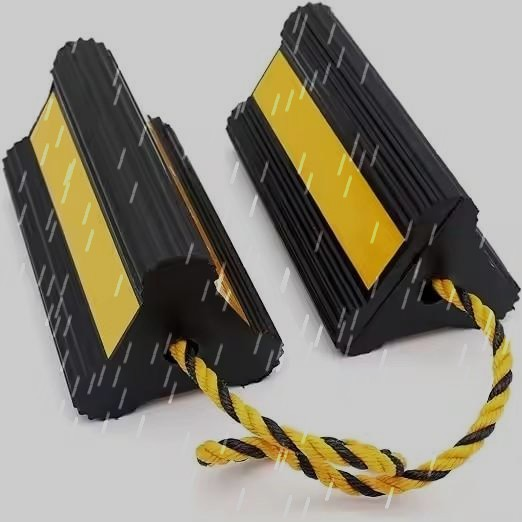chock: (4, 36, 285, 425), (223, 0, 522, 357)
